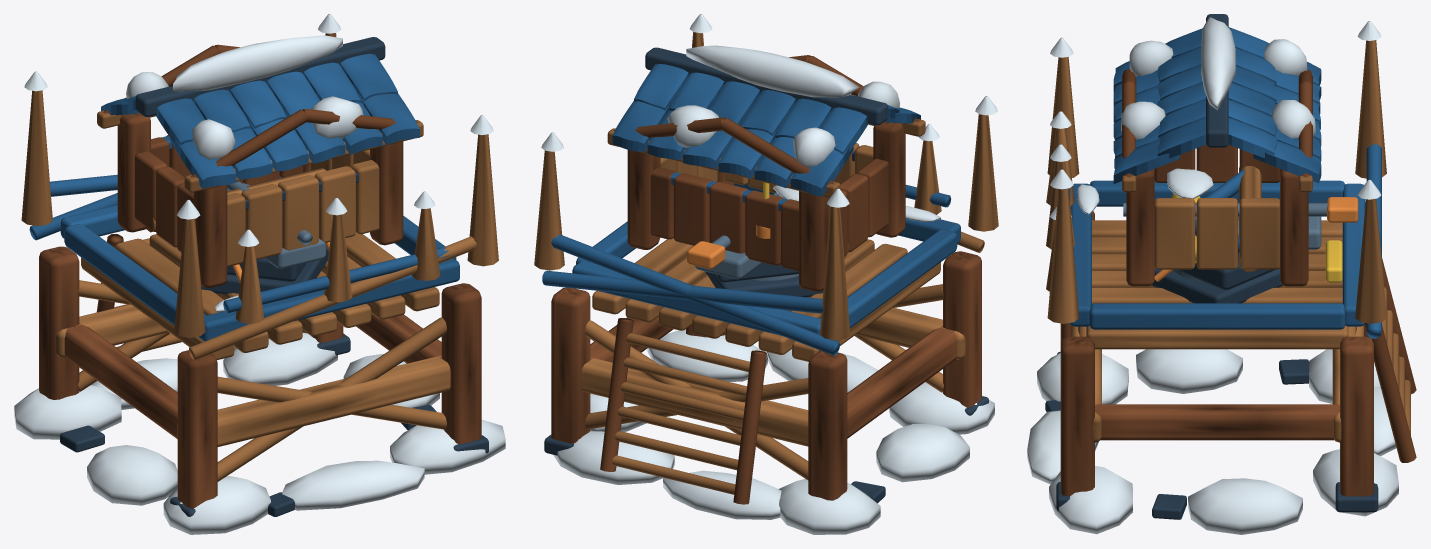
File: defense_platform.glb
The picture shows the model from 3 angles, left to right: view 1: azimuth 30°, elevation 25°; view 2: azimuth 150°, elevation 25°; view 3: azimuth 270°, elevation 25°; orthographic projection. The views are drawn at different scales.
Visible parts, largest first — view 1: defense_platform; view 2: defense_platform; view 3: defense_platform.
Part boxes in pixels (x1,y1,x2,y2): defense_platform: [14, 14, 505, 534]; defense_platform: [534, 14, 998, 534]; defense_platform: [1027, 14, 1416, 534].
Bounding box in the file's own units: 2.98 × 3.12 × 2.73.
